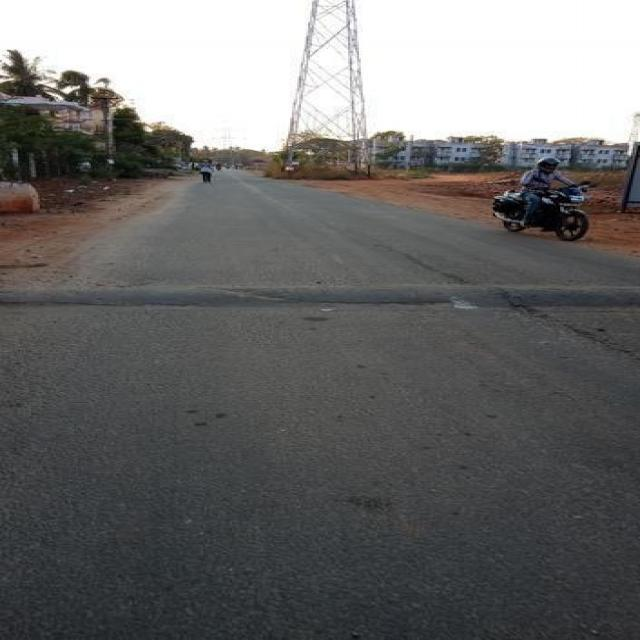NonMarked Bump: (21, 277, 612, 318)
